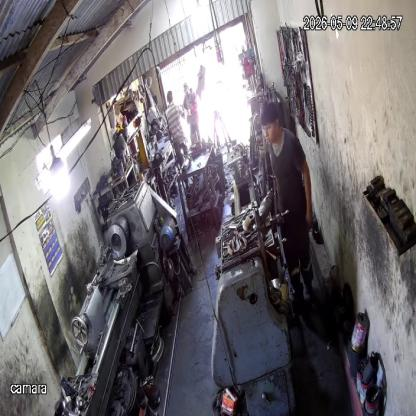sin_lentes: (262, 124, 272, 134)
